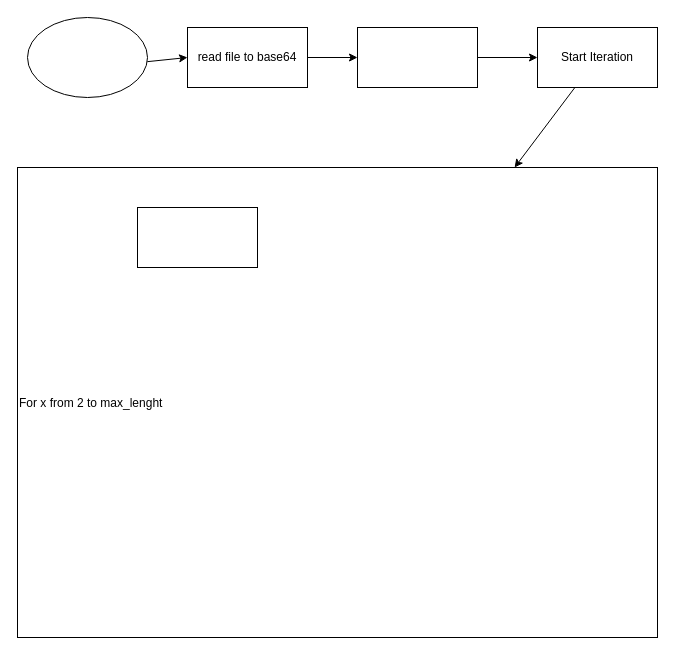
Some shapes in this 675 by 655 pixel diagram are drawn without their labels. Each missing label, with the centre of its shape:
"File" belongs at pixel 87 57.
"init dict and maxpatternsize" belongs at pixel 417 57.
